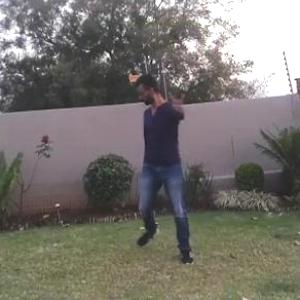takeoff-hand: (162, 84, 189, 121)
